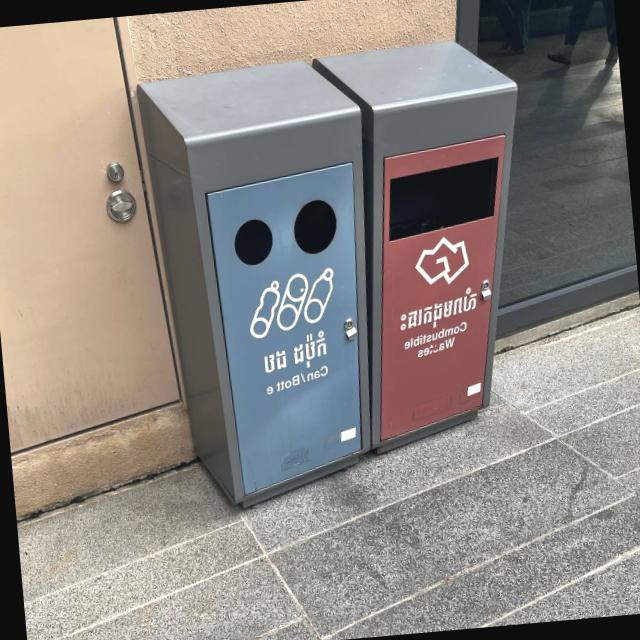1: (257, 324, 331, 385)
Yolov11_80vkh: (398, 284, 476, 340)
